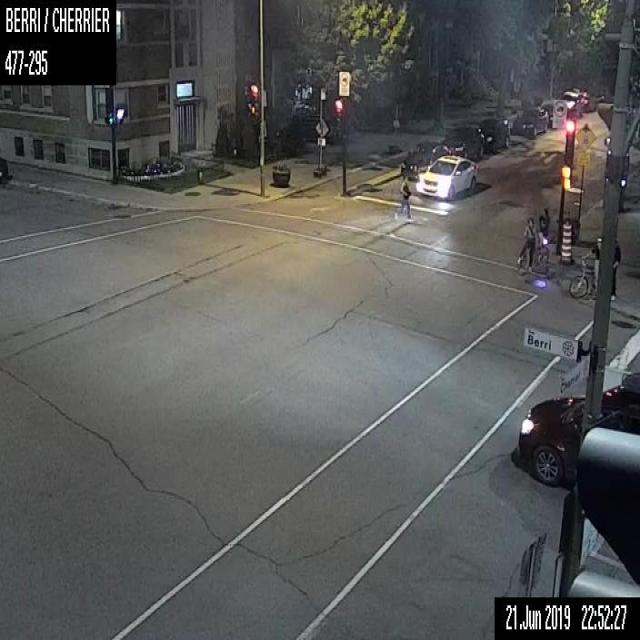construction: (561, 221, 570, 261)
cyclist: (568, 236, 602, 298), (517, 217, 548, 269)
pedestrian: (610, 241, 620, 300), (399, 177, 412, 216), (538, 206, 549, 243)
vehicle: (518, 372, 639, 484), (416, 154, 478, 198), (400, 141, 450, 179), (442, 125, 484, 160), (512, 105, 549, 138), (480, 117, 510, 153), (563, 90, 582, 118), (540, 100, 558, 128), (581, 88, 596, 113), (0, 155, 8, 185)
